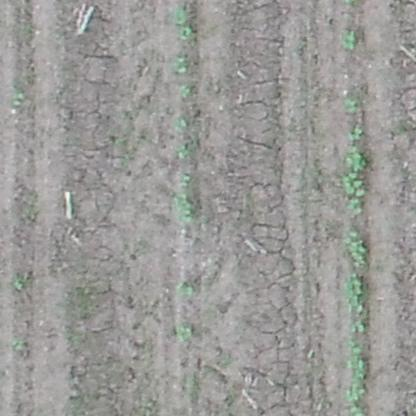vc: (344, 341, 368, 401), (343, 270, 368, 312), (344, 229, 371, 266), (340, 175, 368, 198), (174, 192, 194, 222), (343, 150, 368, 171), (340, 26, 356, 51), (173, 322, 193, 340), (349, 318, 368, 335), (177, 25, 195, 42), (172, 55, 188, 74), (346, 200, 365, 215), (347, 125, 364, 141), (177, 280, 194, 296), (174, 114, 190, 129), (178, 82, 193, 98), (175, 142, 191, 157), (343, 97, 357, 113), (178, 173, 192, 187)
